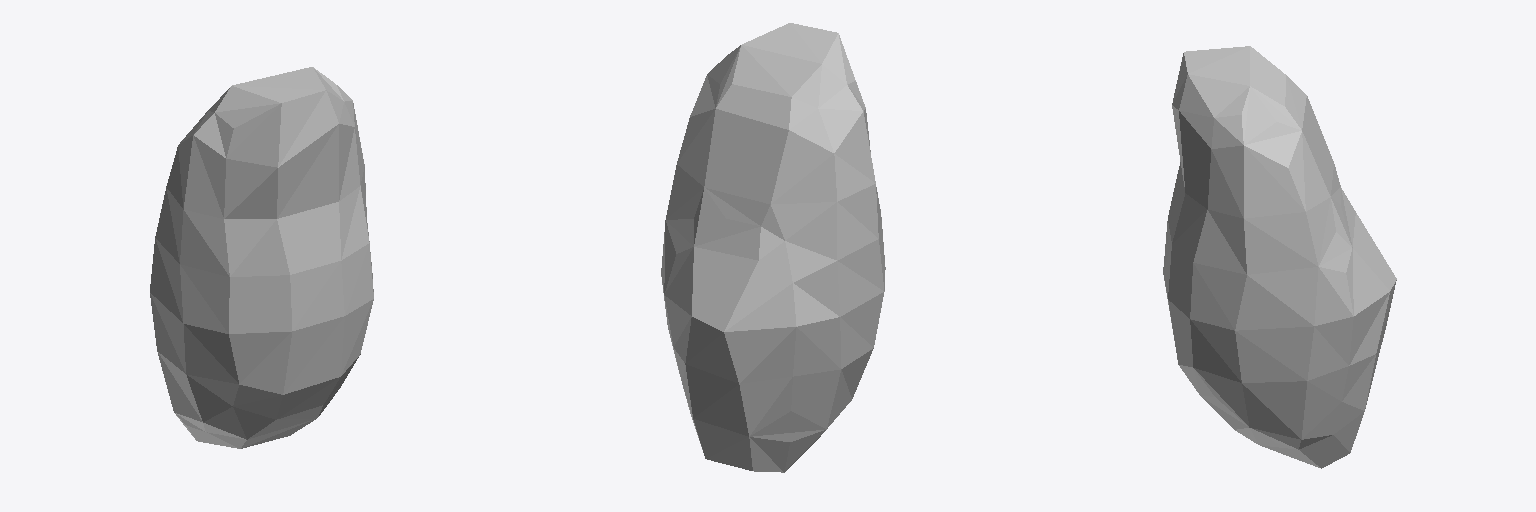
Rendered from piedra1.obj.
The picture shows the model from 3 angles: view 1: azimuth 30°, elevation 25°; view 2: azimuth 150°, elevation 25°; view 3: azimuth 270°, elevation 25°; orthographic projection.
Parts seen in each view (by area): view 1: Esfera; view 2: Esfera; view 3: Esfera.
Part boxes in pixels (x1,y1,x2,y2): Esfera: (150, 67, 373, 448); Esfera: (661, 23, 885, 472); Esfera: (1163, 46, 1396, 468).
Size of the model in its own units: 2.14 by 4.2 by 2.3.